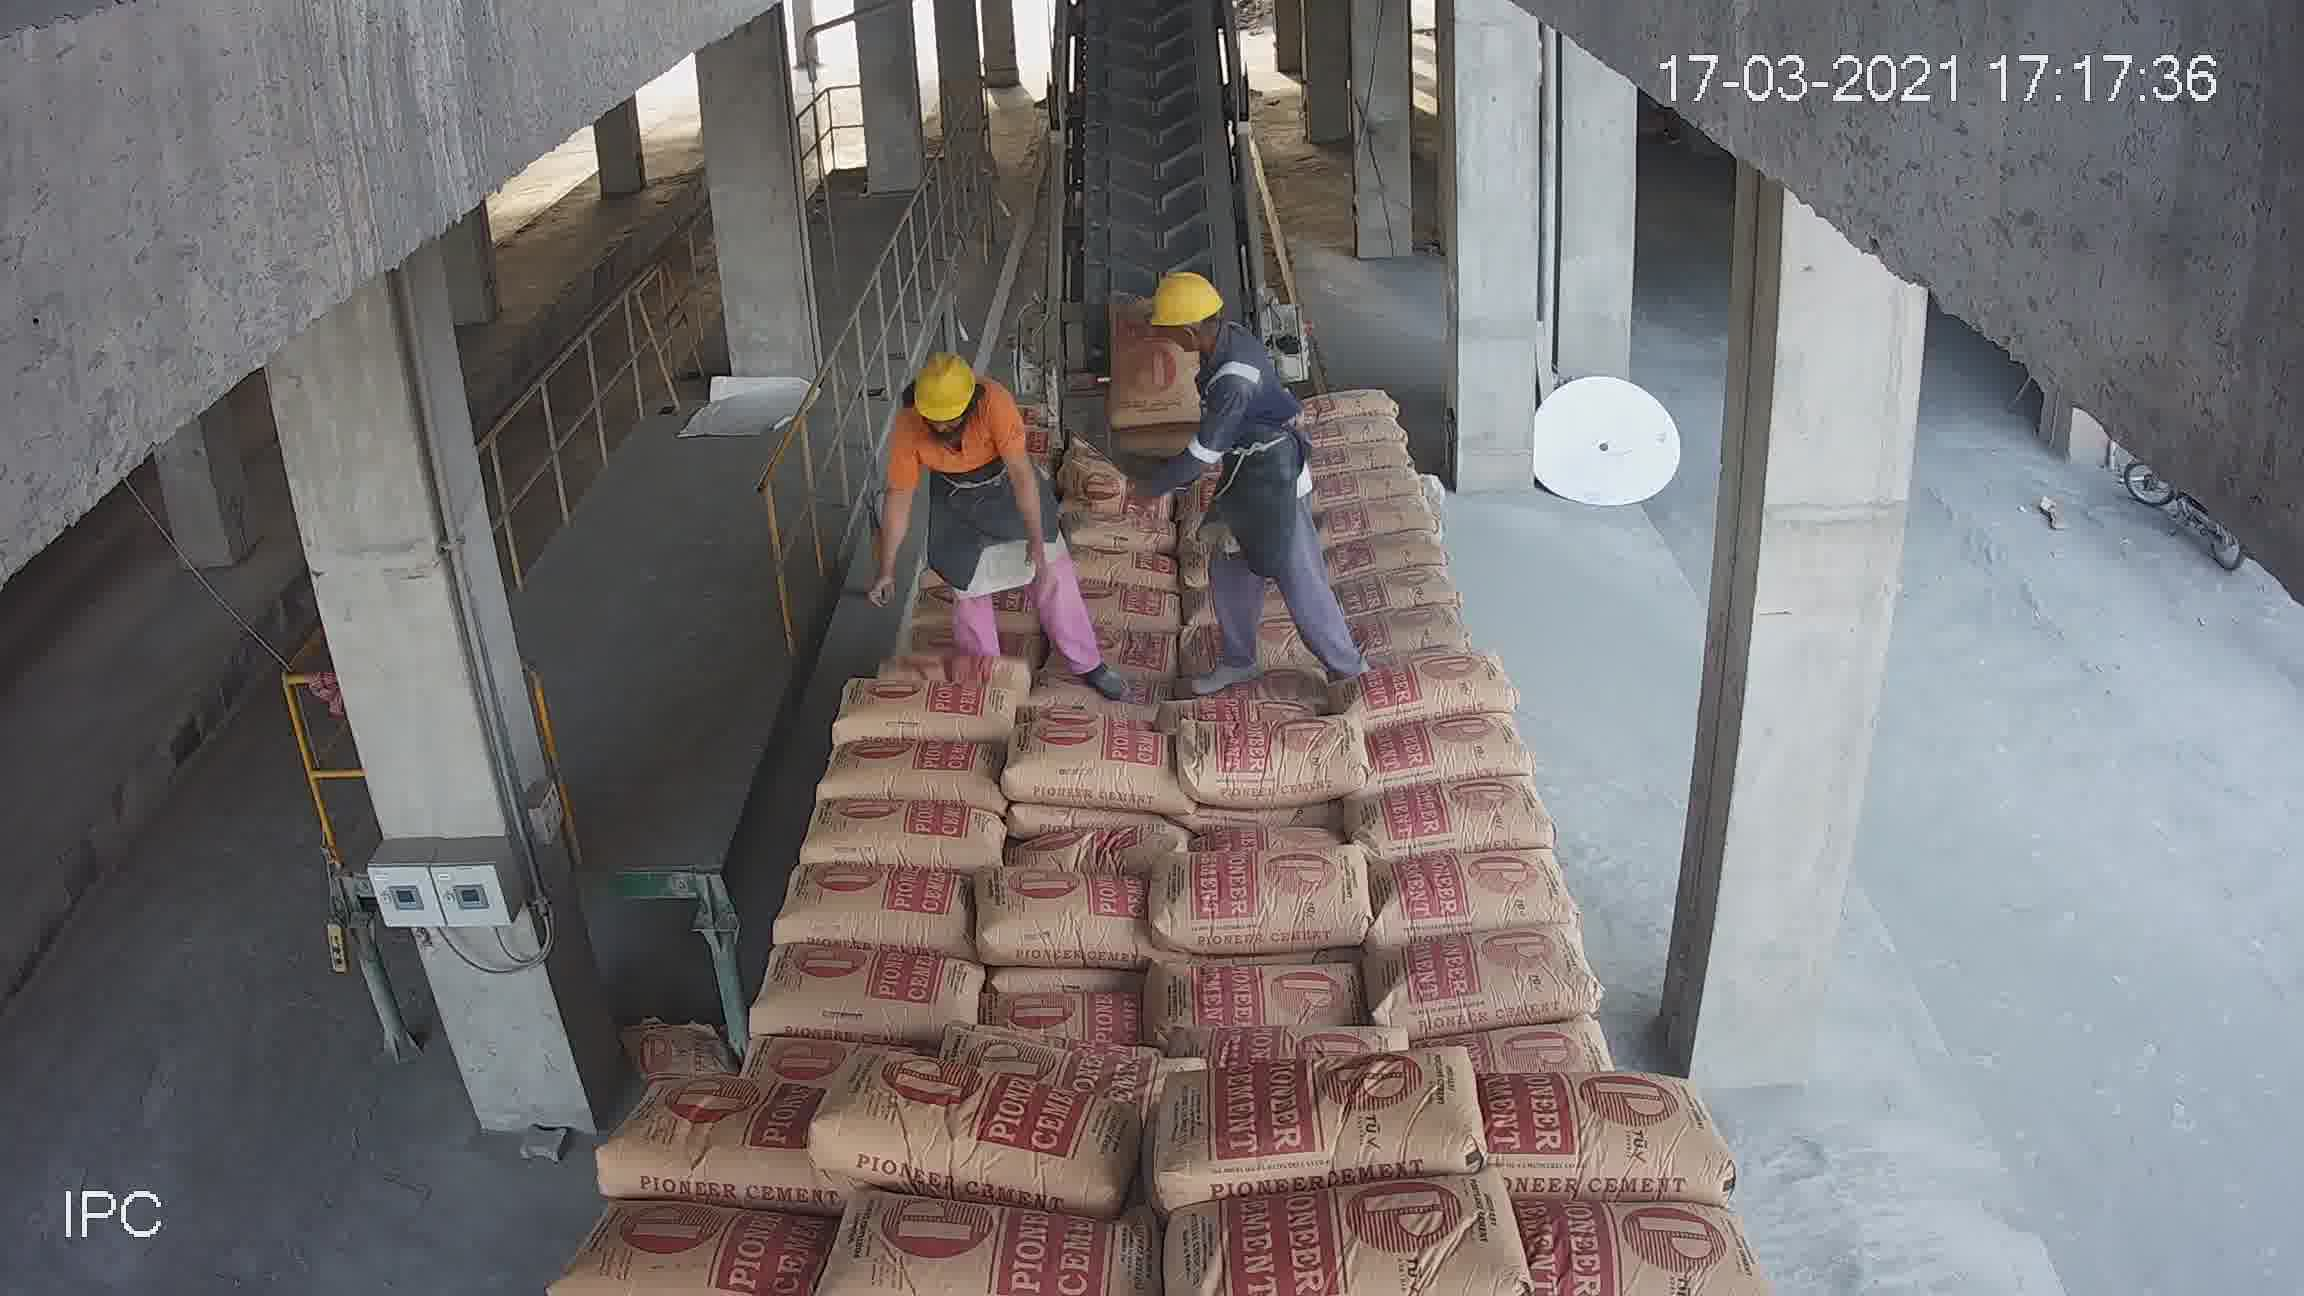bag: (1103, 301, 1199, 427)
bag_h: (783, 1060, 1122, 1211), (1196, 1051, 1506, 1204), (1442, 1054, 1701, 1222), (1173, 1173, 1513, 1294), (831, 1195, 1177, 1296), (1362, 916, 1600, 1035), (744, 934, 994, 1044), (1497, 1176, 1744, 1287), (565, 1192, 832, 1291), (600, 1086, 805, 1211), (1157, 845, 1378, 946), (976, 858, 1150, 983), (764, 864, 981, 956), (1359, 848, 1570, 937), (1179, 714, 1364, 807), (1348, 774, 1548, 856), (1157, 964, 1358, 1044), (1010, 725, 1180, 813), (799, 802, 999, 878), (1364, 703, 1532, 788), (1347, 654, 1516, 737), (817, 733, 1006, 805), (1407, 1019, 1612, 1086), (839, 674, 1021, 741), (999, 984, 1157, 1055), (1052, 529, 1188, 593), (1313, 532, 1453, 587), (1041, 661, 1187, 712), (1070, 582, 1192, 642), (1336, 559, 1457, 617), (1057, 503, 1184, 557), (1312, 502, 1438, 543), (1310, 468, 1429, 511), (1369, 600, 1462, 654), (1301, 383, 1404, 427), (1310, 441, 1416, 484), (1298, 411, 1415, 449)
belt: (1040, 28, 1279, 424)
